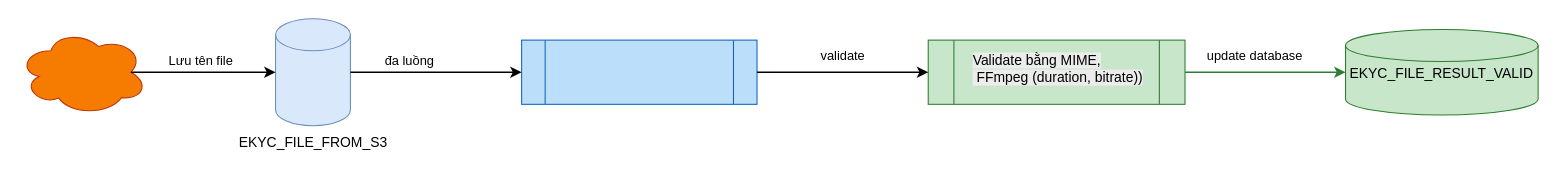
The diagram is 1557 pixels wide and 177 high, and some of its shapes have lost their labels. Each missing label, with the centre of its shape:
"AWS S3" belongs at [82,71].
"Python ThreadPoolExecutor" belongs at [639,71].
